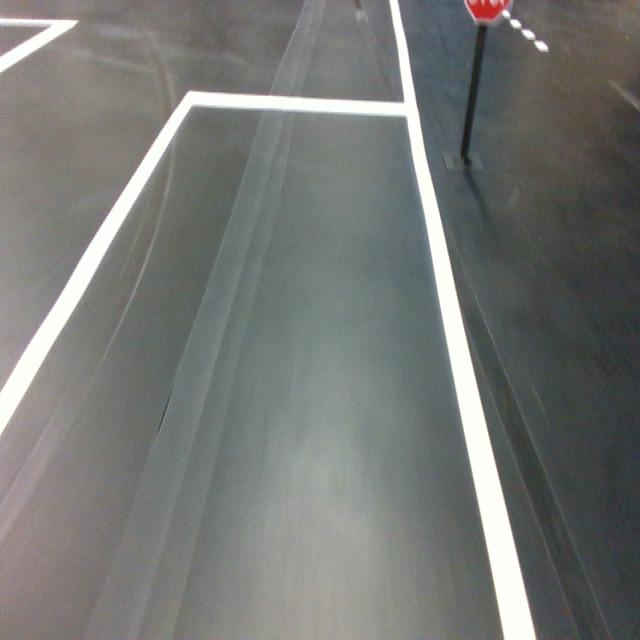stop-sign: (462, 0, 512, 23)
